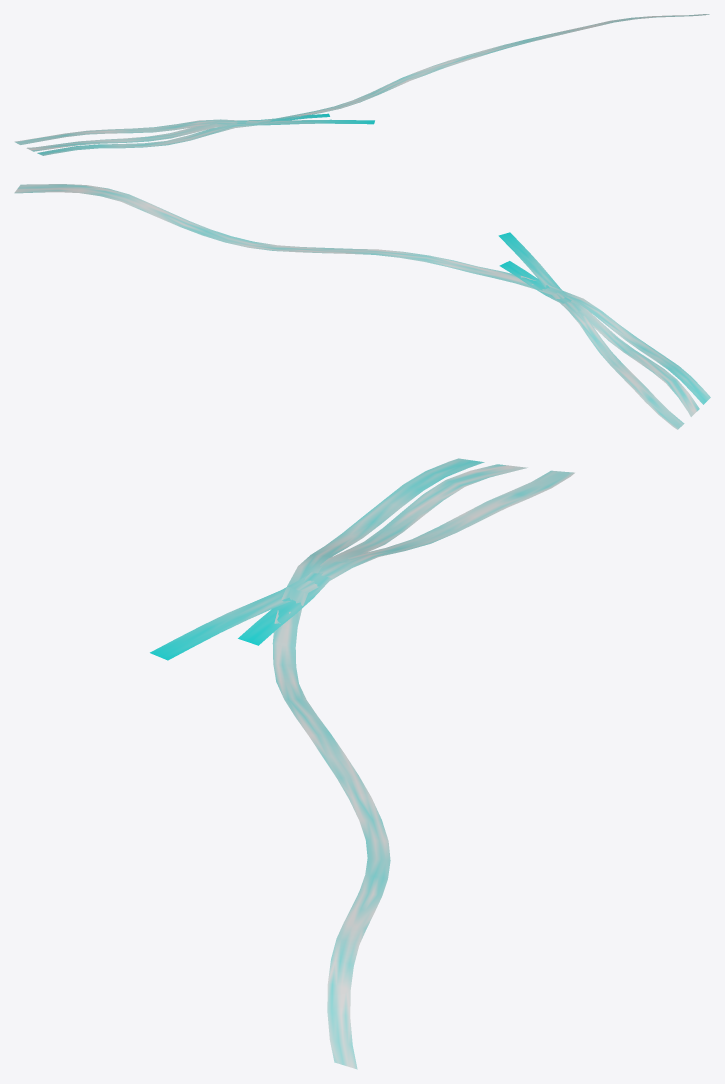
The picture shows the model from 3 angles, top to bottom: view 1: azimuth 30°, elevation 25°; view 2: azimuth 150°, elevation 25°; view 3: azimuth 270°, elevation 25°; orthographic projection. The views are drawn at different scales.
Visible parts, largest first — view 1: SpaceCenter_Long3_GenerateRoad_Sand_TireTracks_Width_Mesh_x1; view 2: SpaceCenter_Long3_GenerateRoad_Sand_TireTracks_Width_Mesh_x1; view 3: SpaceCenter_Long3_GenerateRoad_Sand_TireTracks_Width_Mesh_x1.
Part boxes in pixels (x1,y1,x2,y2): SpaceCenter_Long3_GenerateRoad_Sand_TireTracks_Width_Mesh_x1: [14, 14, 709, 155]; SpaceCenter_Long3_GenerateRoad_Sand_TireTracks_Width_Mesh_x1: [14, 184, 710, 429]; SpaceCenter_Long3_GenerateRoad_Sand_TireTracks_Width_Mesh_x1: [150, 458, 574, 1069].
Size of the model in its own units: 668 by 2304 by 116.
